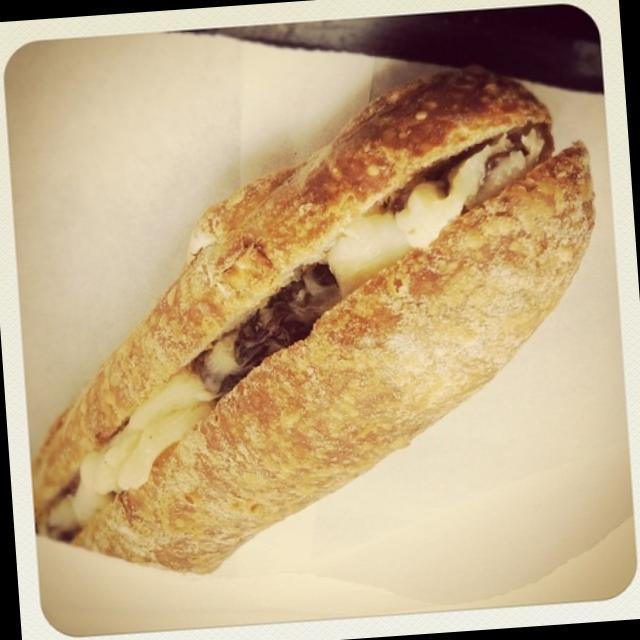Bread: (16, 70, 636, 624)
